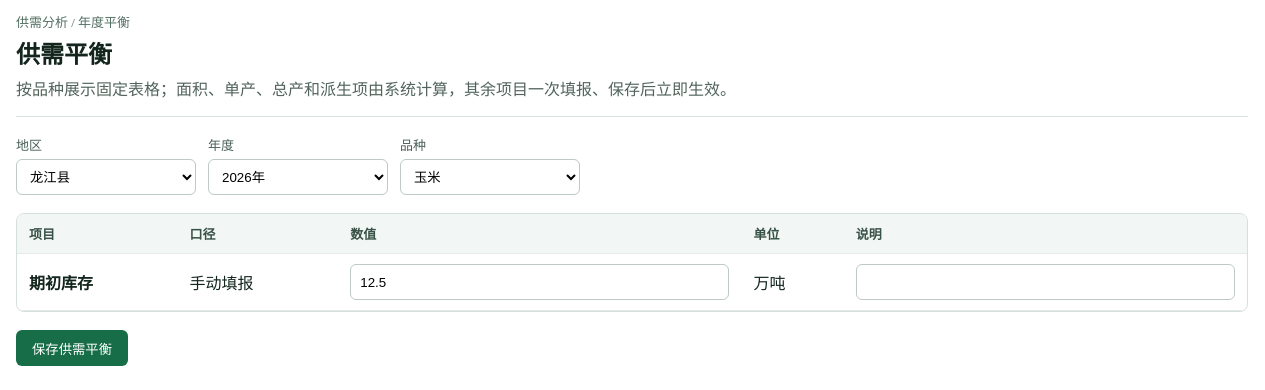
Test: SupplyBalanceWorkspace › keeps saving disabled when the newly selected scope fails to load
The width and height of the screenshot is (1265, 390).
Expected: the number field showing "12.5" is shown, left=350, top=264, right=730, bottom=300
Step 1. Select "2025年" in the dropdown named "供需年度" → (298, 177), box left=208, top=159, right=388, bottom=195
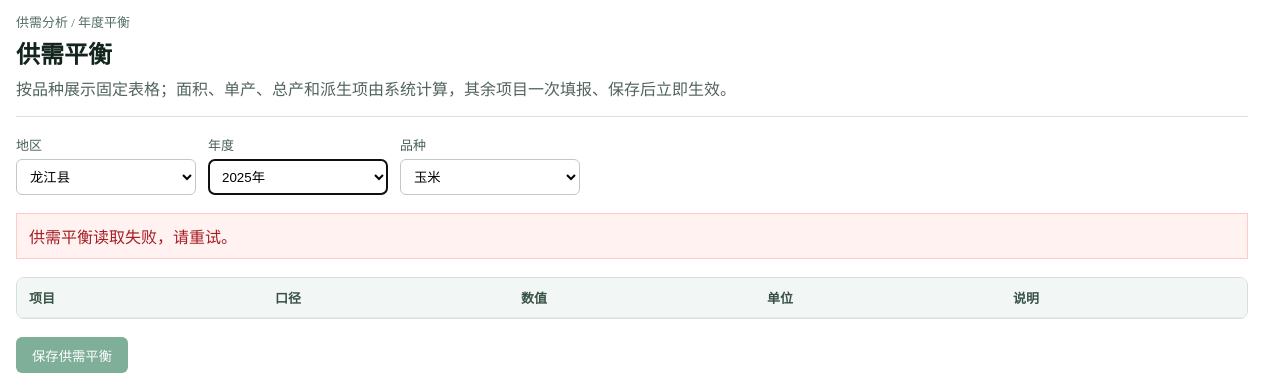
Expected: the field showing "12.5" is not shown
Now the message reads "供需平衡读取失败，请重试。", box left=29, top=229, right=237, bottom=246
Now the button "保存供需平衡" is disabled, box left=16, top=337, right=128, bottom=373
